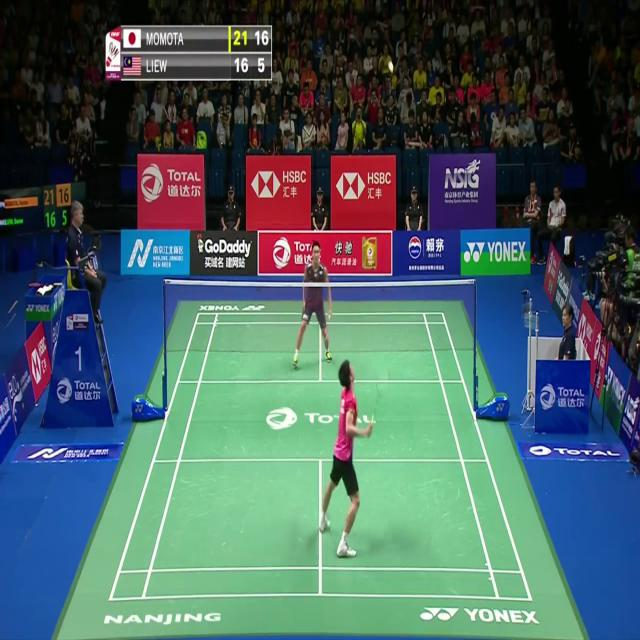Shuttlecock: (387, 60, 393, 72)
